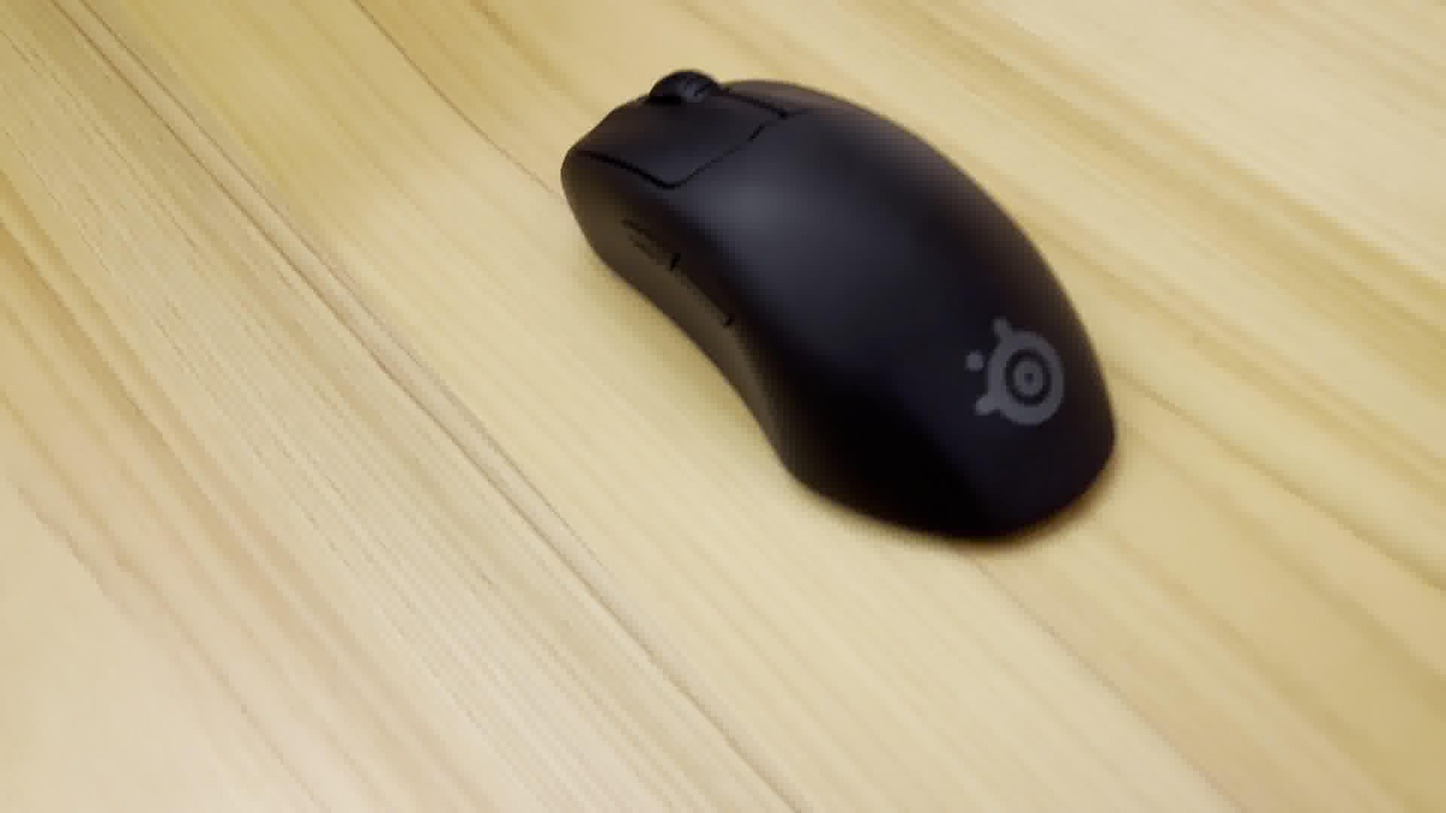mouse: (553, 56, 1136, 562)
